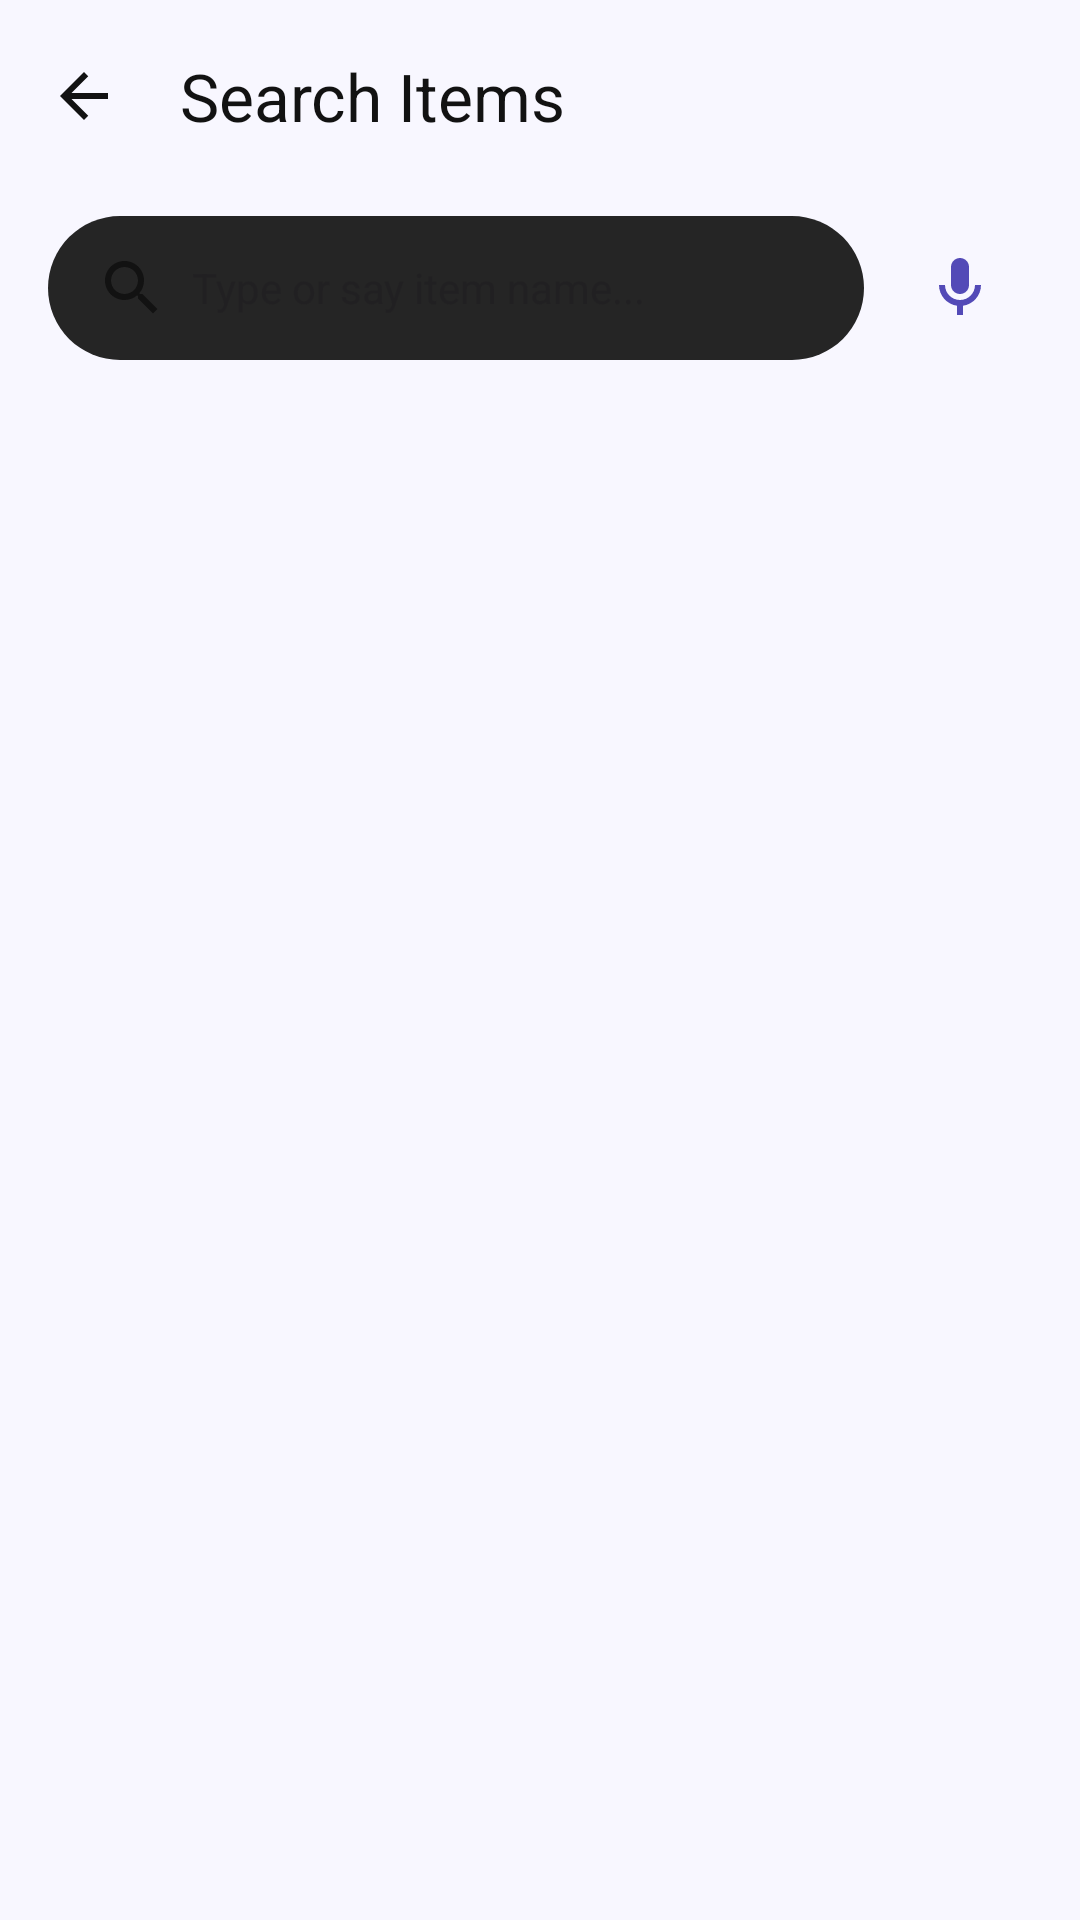

Icons on this 1080×1920 Android screen, each with its box as box(x1, y1, x2, y2):
Voice Search: box(939, 258, 981, 315)
